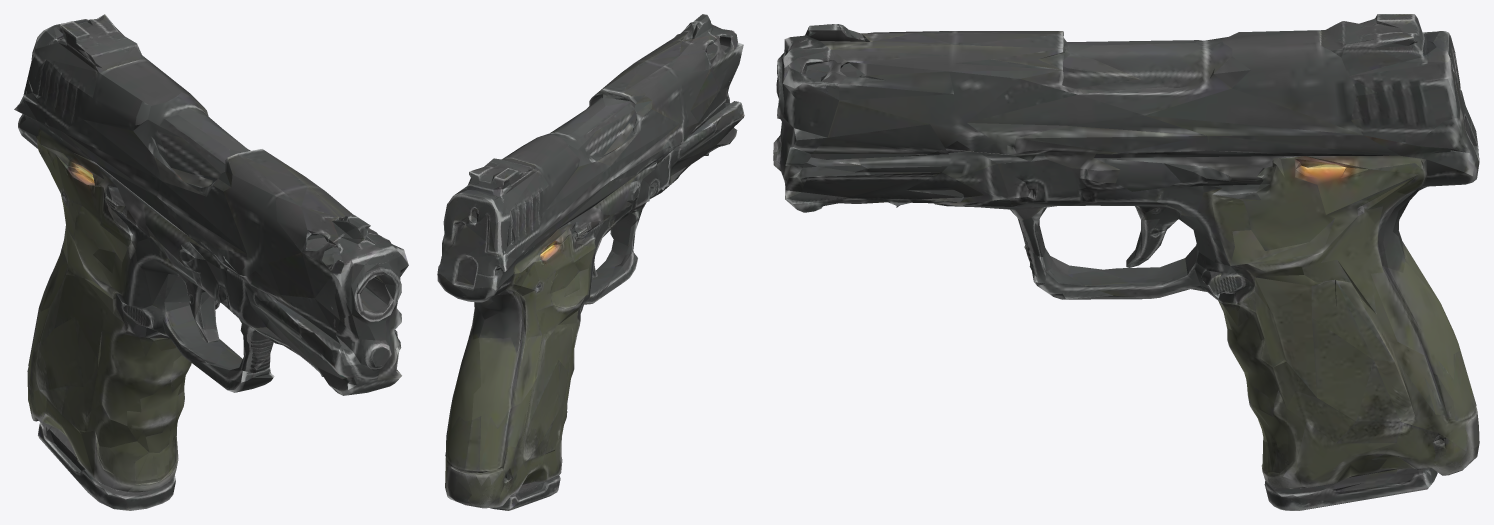
Rendered from sidearm.glb.
The picture shows the model from 3 angles, left to right: view 1: azimuth 30°, elevation 25°; view 2: azimuth 150°, elevation 25°; view 3: azimuth 270°, elevation 25°; orthographic projection. The views are drawn at different scales.
Visible parts, largest first — view 1: output_unwrapped; view 2: output_unwrapped; view 3: output_unwrapped.
Part boxes in pixels (x1,y1,x2,y2): output_unwrapped: [14, 14, 408, 510]; output_unwrapped: [437, 14, 744, 510]; output_unwrapped: [773, 14, 1479, 510].
Size of the model in its own units: 0.0424 by 0.1773 by 0.24.
1 material, 1 textured.
